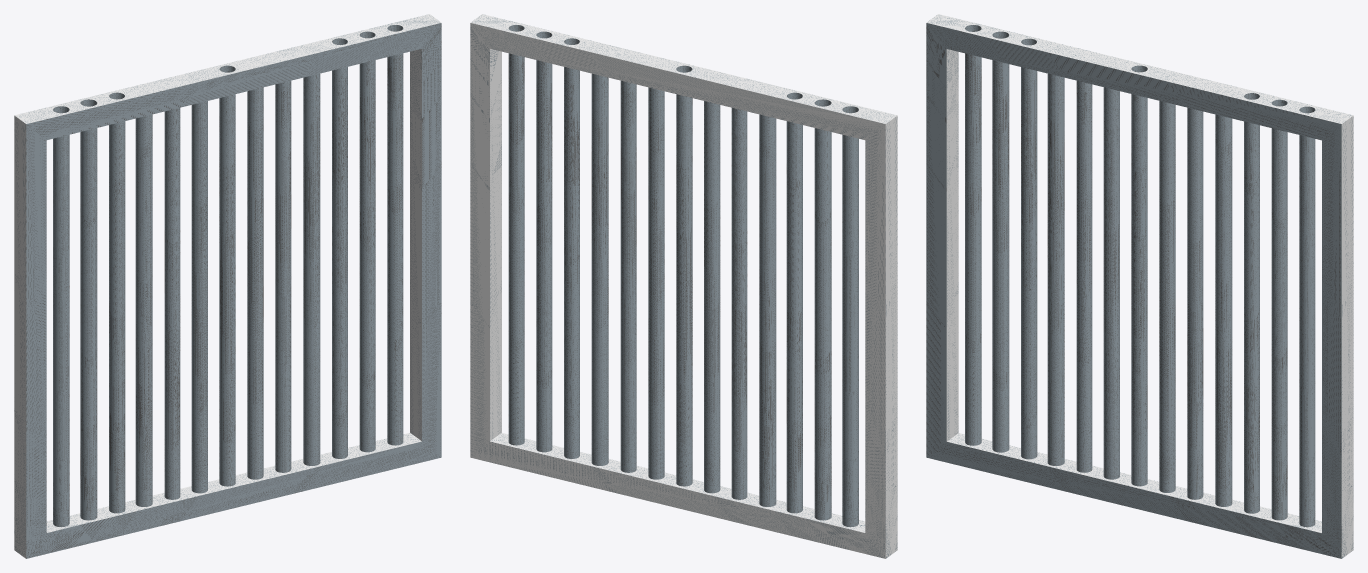
Rendered from jail_bars.fbx.
The picture shows the model from 3 angles, left to right: view 1: azimuth 30°, elevation 25°; view 2: azimuth 150°, elevation 25°; view 3: azimuth 330°, elevation 25°; orthographic projection.
Visible parts, largest first — view 1: Jail_Window1; view 2: Jail_Window1; view 3: Jail_Window1.
Boxes of the visible parts, left/top/right/bottom form: Jail_Window1: left=14, top=14, right=441, bottom=558; Jail_Window1: left=470, top=14, right=897, bottom=558; Jail_Window1: left=926, top=14, right=1353, bottom=558.
Size of the model in its own units: 1.28 by 1.28 by 0.0641.
